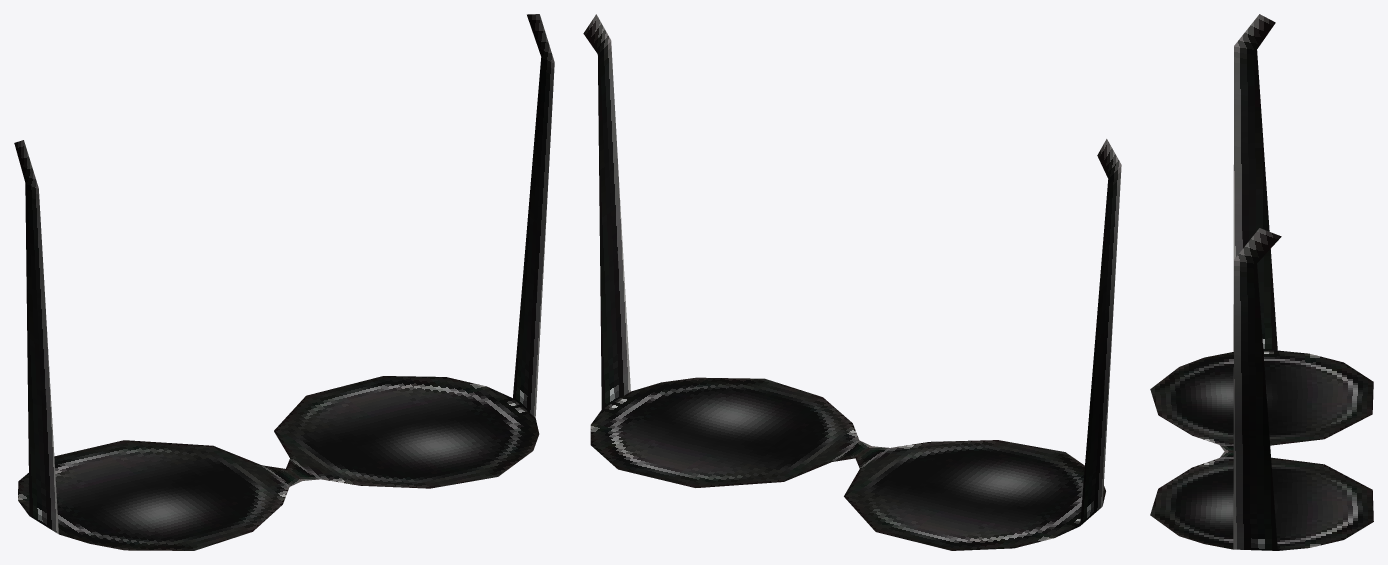
The model's file is tt_m_chr_avt_acc_msk_jackieOShades.glb.
3 views of the same model, side by side, from view 1: azimuth 30°, elevation 25°; view 2: azimuth 150°, elevation 25°; view 3: azimuth 270°, elevation 25° (orthographic). The views are drawn at different scales.
Visible parts, largest first — view 1: jackieOShades; view 2: jackieOShades; view 3: jackieOShades.
Boxes of the visible parts, x1=… form: jackieOShades: x1=14, y1=14, x2=554, y2=550; jackieOShades: x1=583, y1=14, x2=1121, y2=550; jackieOShades: x1=1150, y1=14, x2=1373, y2=550.
Bounding box in the file's own units: 3.57 × 2.58 × 1.58.
Materials: 1 (1 with a texture image).
